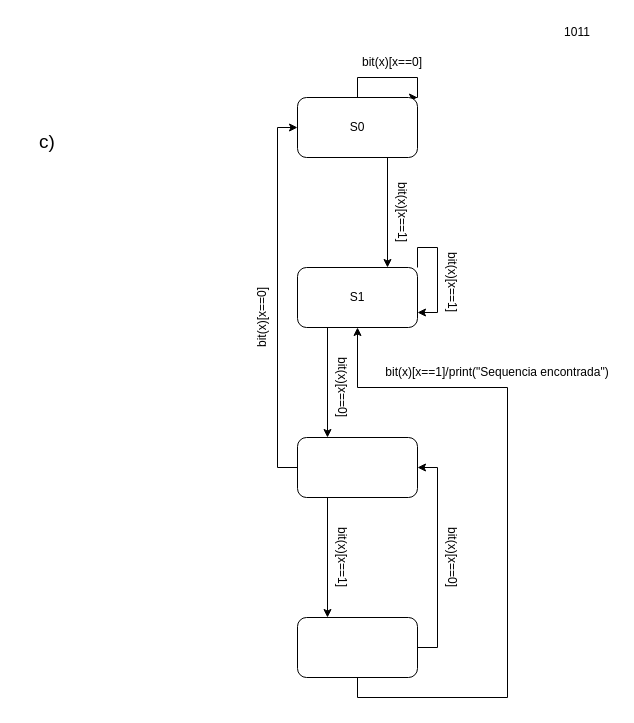
The diagram is 634 pixels wide and 723 high, and some of its shapes have lost their labels. The shapes that lost their labels are listed below. From the top down, each one's box as (x1, y1, x2, y2) in pixels, then its label:
(296, 436, 418, 498): S2
(296, 616, 418, 678): S3
